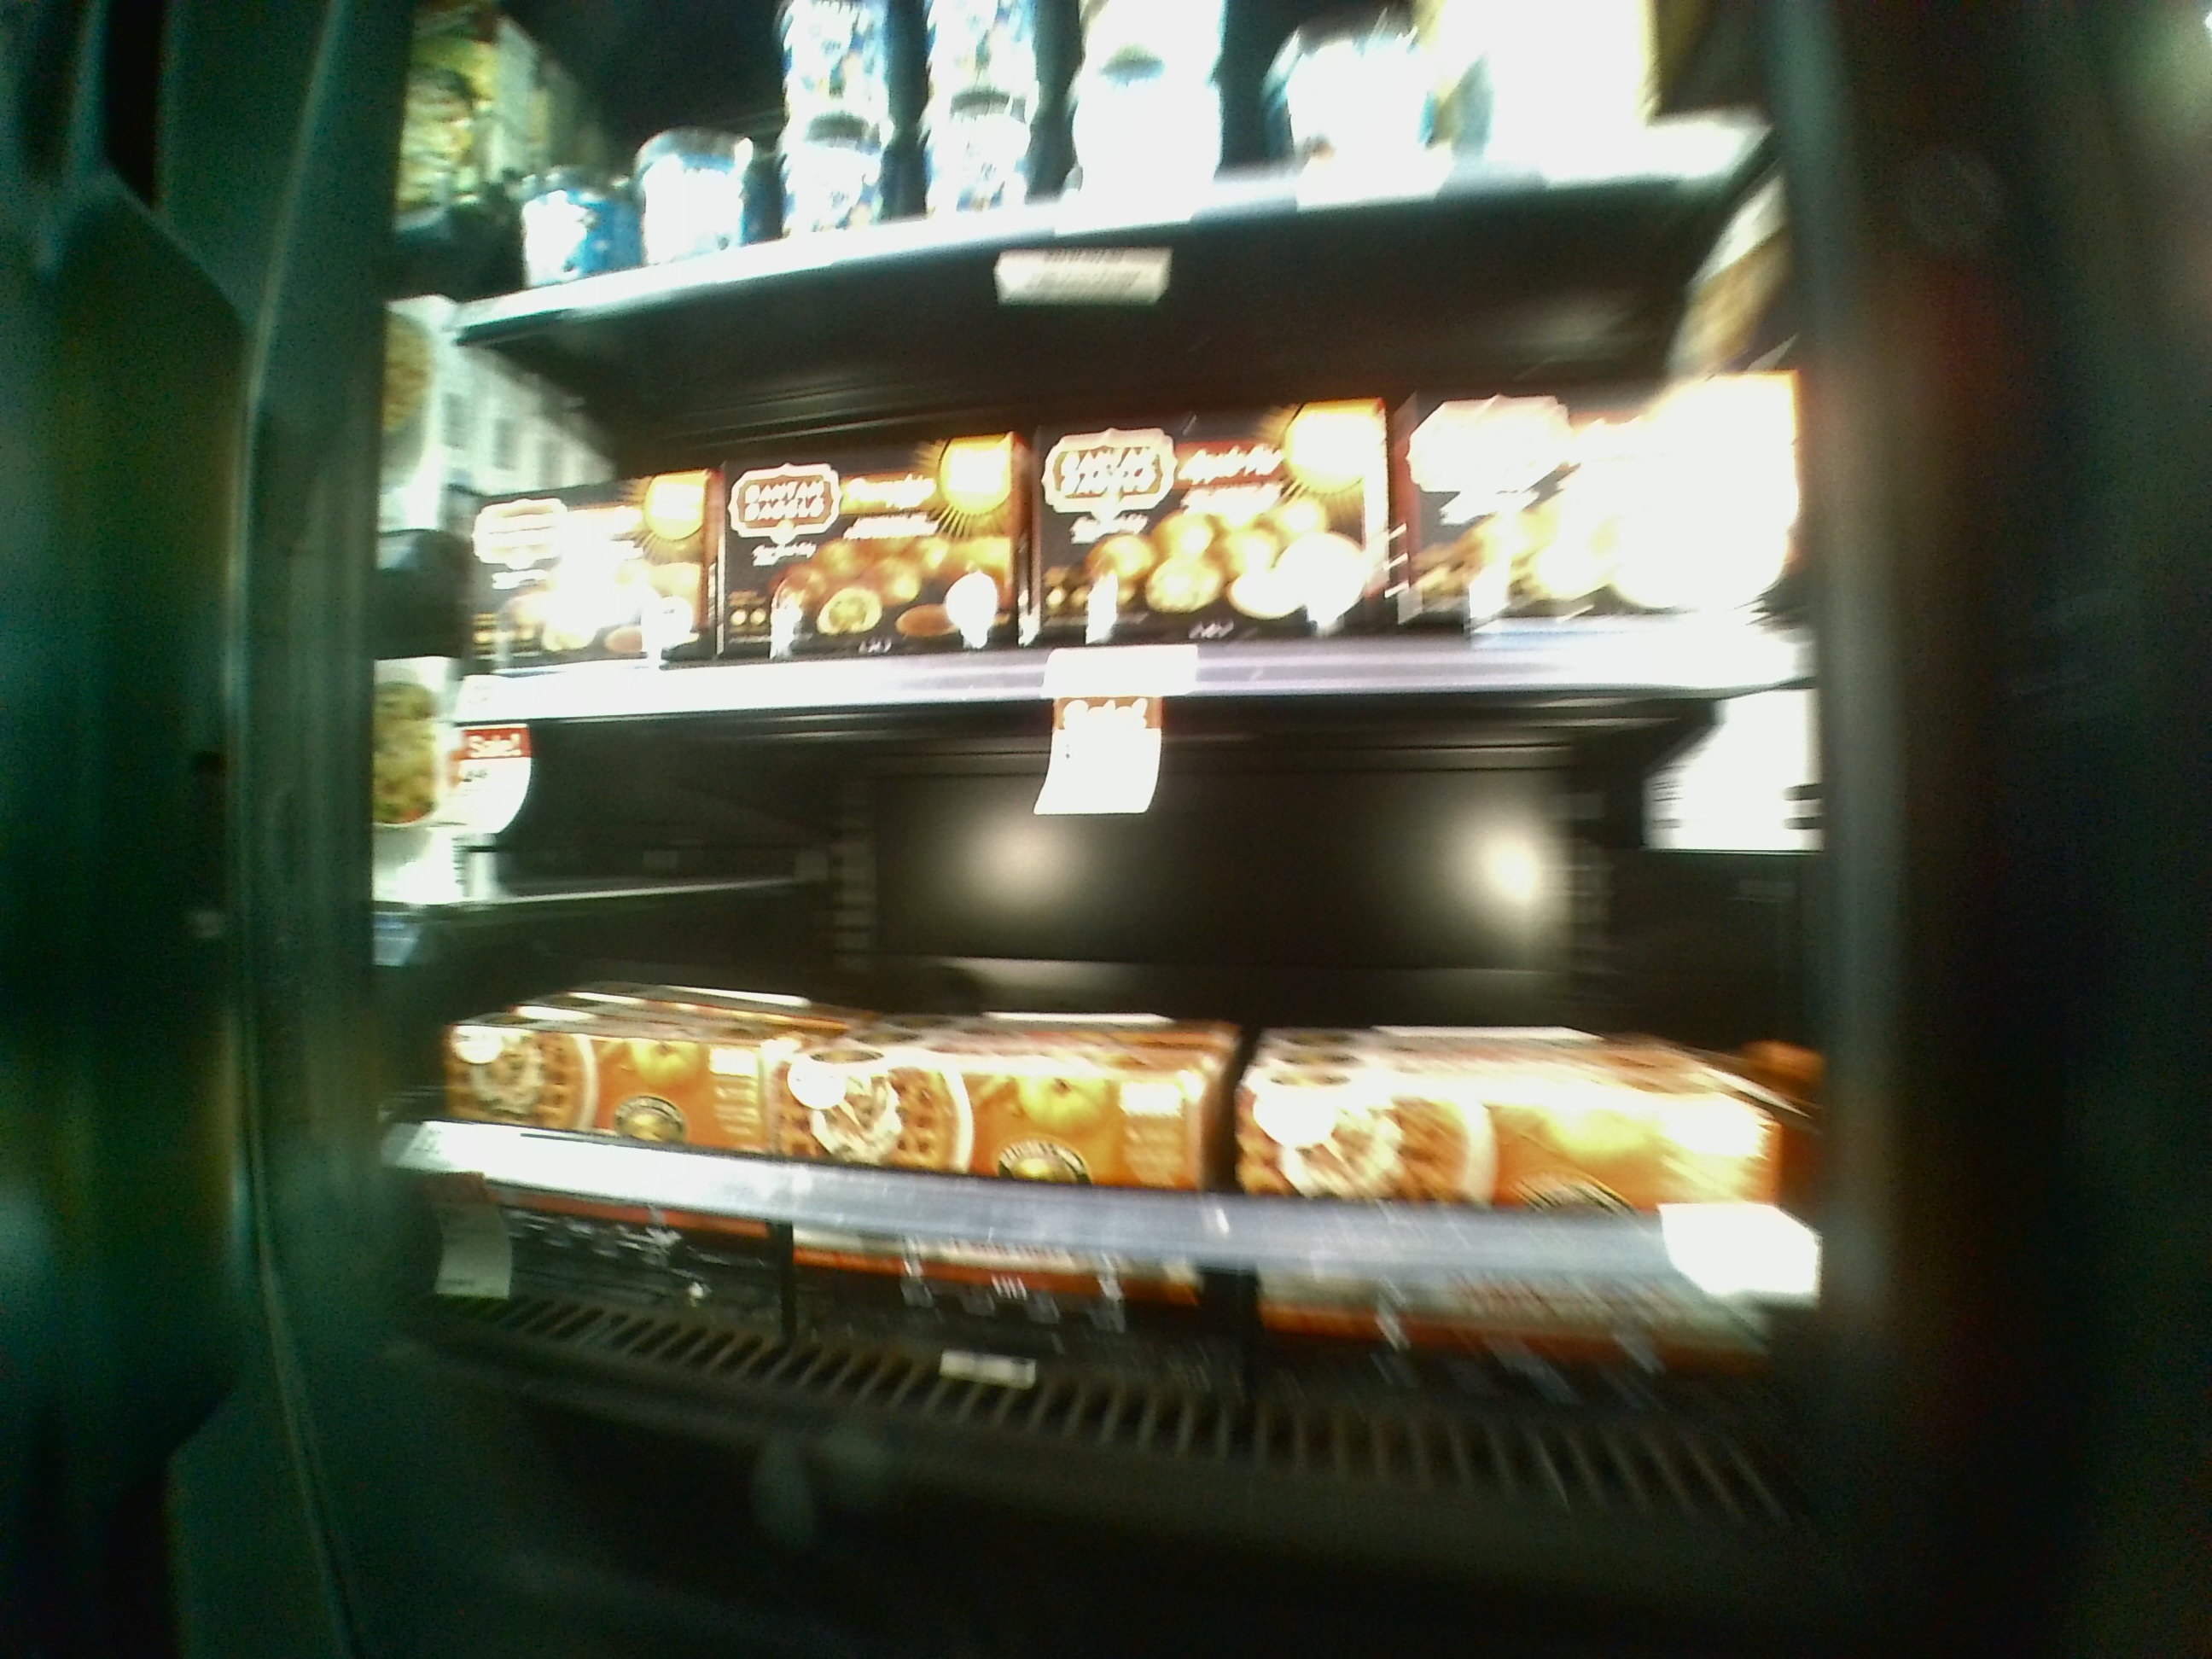shelf: (435, 688, 1832, 1511), (446, 263, 1787, 690)
